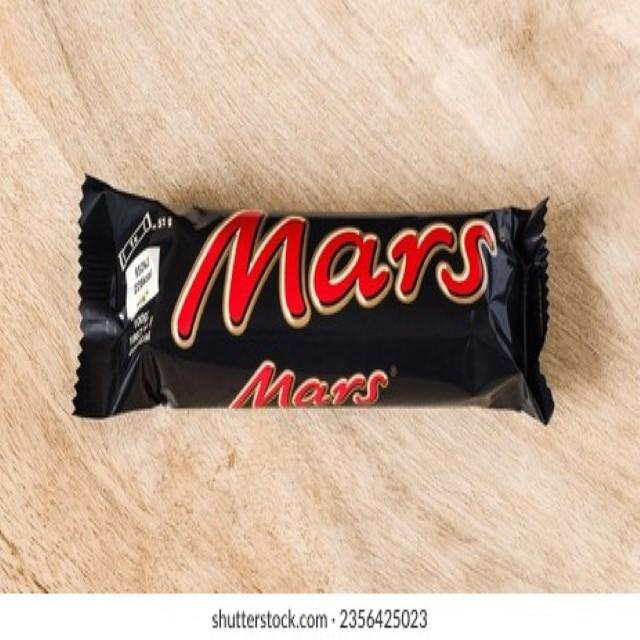mars_chocolate: (75, 177, 557, 418)
